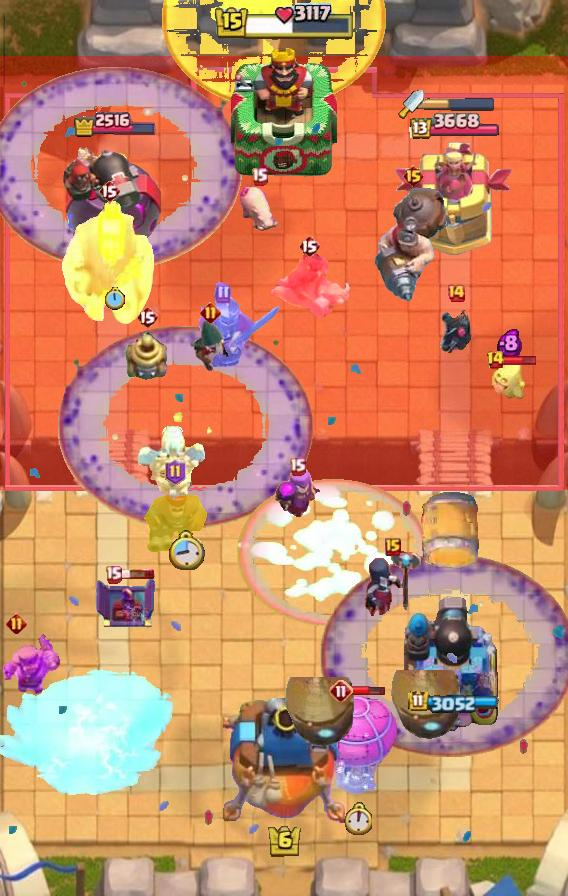arrows: (0, 633, 64, 701)
bar: (395, 142, 514, 256)
bat-evolution: (492, 356, 526, 400)
battle-ram: (437, 308, 475, 358)
cannon-cart: (313, 689, 401, 797)
clock: (213, 3, 355, 43)
dirt: (420, 491, 488, 571)
electro-spirit: (497, 328, 522, 358)
elixir: (168, 530, 205, 570), (344, 801, 373, 834), (103, 287, 124, 311)
emote: (119, 568, 155, 580), (350, 685, 385, 697), (502, 355, 538, 366)
freeze: (267, 253, 351, 319)
giant: (238, 183, 280, 235)
giant-skeleton: (61, 199, 157, 327)
goblin-drill: (123, 332, 171, 382)
ice-spirit-evolution-symbol: (94, 576, 158, 630)
king-tower: (223, 698, 345, 826), (231, 43, 337, 181)
king-tower-bar: (424, 97, 496, 111)
mega-knight: (0, 666, 178, 802)
mini-pekka: (133, 426, 209, 506)
phoenix-big: (236, 476, 430, 627)
phoenix-egg: (162, 0, 386, 108)
phoenix-small: (141, 477, 209, 555)
rascal-boy: (363, 547, 423, 621)
rascal-girl: (269, 465, 325, 527)
rocket: (58, 325, 314, 529), (320, 554, 568, 758), (0, 66, 242, 270)
selected: (407, 113, 499, 142), (71, 110, 156, 138), (409, 690, 500, 714)
tesla: (188, 320, 232, 374)
text: (329, 679, 353, 703), (402, 164, 425, 188), (165, 459, 186, 485), (98, 179, 120, 203), (298, 234, 320, 258), (136, 305, 158, 329), (5, 614, 27, 635), (199, 301, 220, 322), (446, 283, 466, 303), (486, 350, 505, 370), (289, 456, 307, 475), (251, 167, 268, 186), (105, 565, 122, 583), (385, 538, 401, 556)
tower-bar: (404, 593, 502, 731), (63, 136, 165, 256)
wall-breaker-evolution: (197, 281, 283, 373)
wizard: (373, 184, 453, 304)
x-bow: (389, 670, 467, 748), (283, 677, 361, 755)
